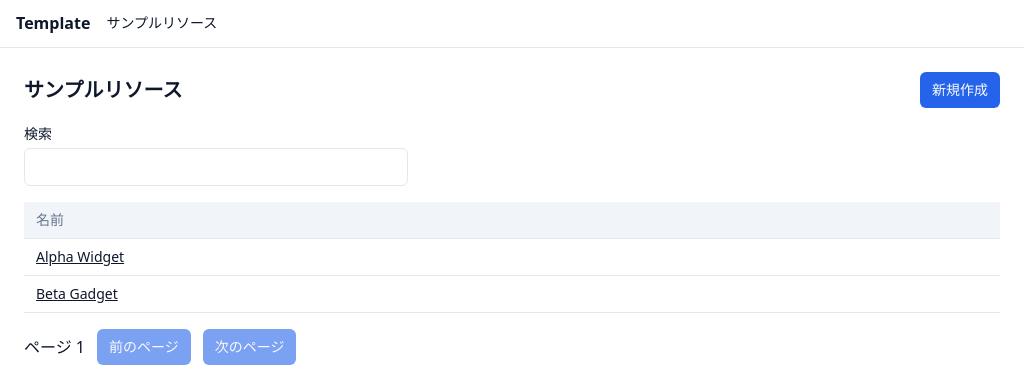
sample resource list › writes search changes to the URL instead of component state
Expected: the link "Alpha Widget" is shown, [36,247,124,266]
Type "Alpha" into the field labelled "検索" at x=216, y=167, box [24,148,408,186]
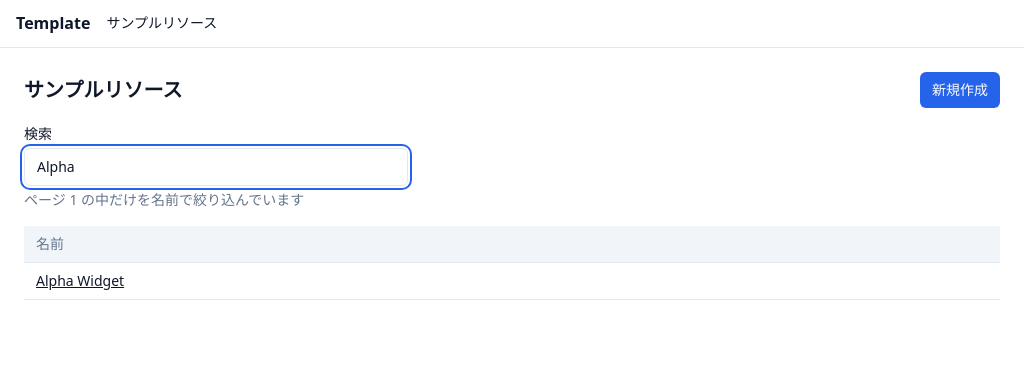
Expected: the link "Alpha Widget" is shown, [36,271,124,290]
Result: the link "Beta Gadget" is gone
